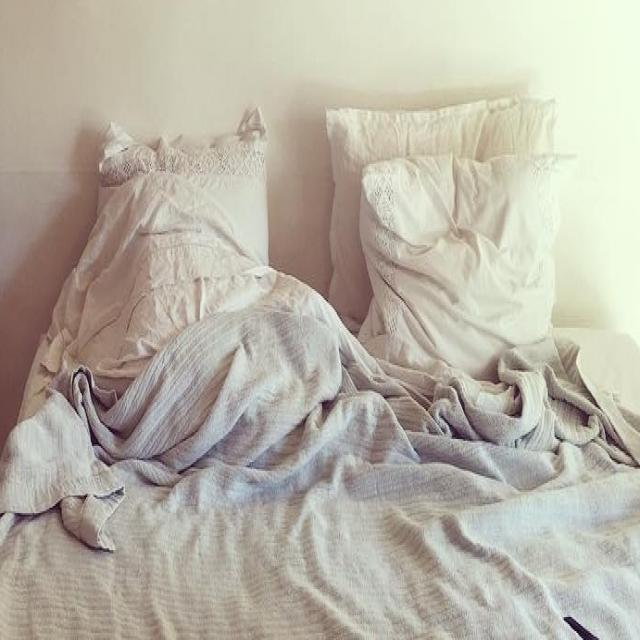bed: (43, 107, 595, 640)
